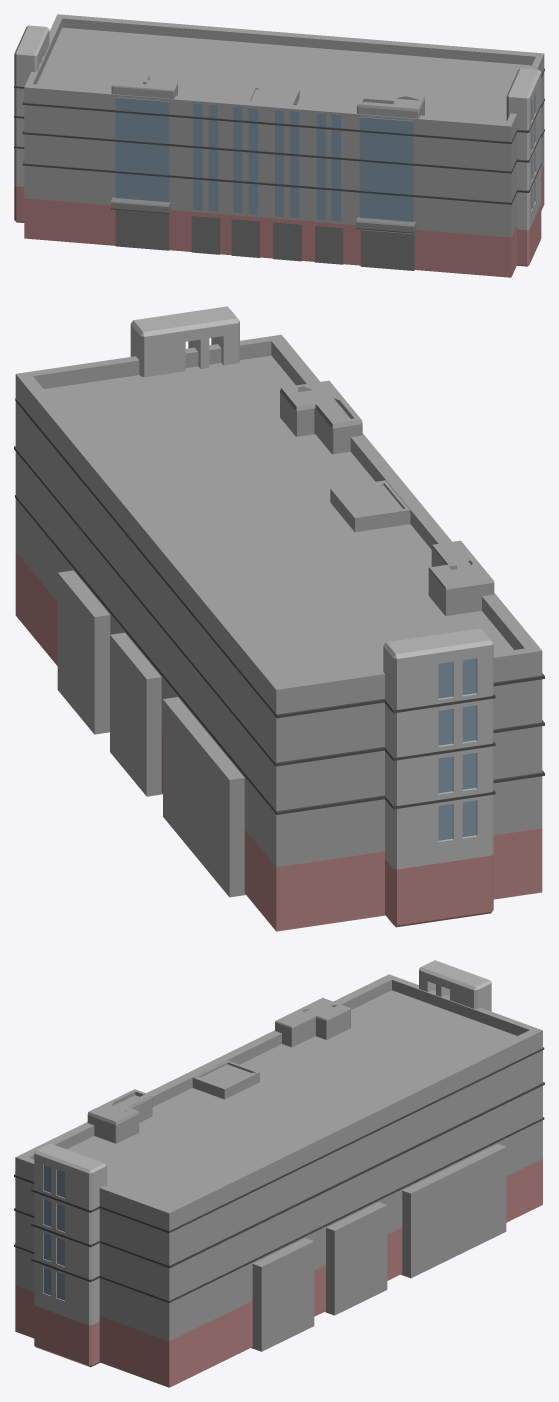
3 views of the same model, one above another, from view 1: azimuth 30°, elevation 25°; view 2: azimuth 150°, elevation 25°; view 3: azimuth 270°, elevation 25° (orthographic). The views are drawn at different scales.
Parts seen in each view (by area): view 1: building_01_003:MAIN_BUILDING1 polySurface1 group1, building_01_003:pCube50 building_01_003:window_front polySur, building_01_003:pCube77 building_01_003:window_front polySur, building_01_003:EEEE1 building_01_003:group polySurface1 gro, building_01_003:EEEE2 building_01_003:group polySurface1 gro, building_01_003:pCube48 building_01_003:window_front polySur, building_01_003:pCube49 building_01_003:window_front polySur, building_01_003:Rooftop building_01_003:pCube2 polySurface1 , building_01_003:pCube45 polySurface1 group1, building_01_003:pCube47 polySurface1 group1, building_01_003:pCube46 polySurface1 group1, building_01_003:Rooftop building_01_003:pCube3 polySurface1  (+16 smaller); view 2: building_01_003:MAIN_BUILDING1 polySurface1 group1, building_01_003:EEEE2 building_01_003:group polySurface1 gro, building_01_003:group1 building_01_003:group2 building_01_00 (×3), building_01_003:EEEE1 building_01_003:group polySurface1 gro, building_01_003:pPlane2 polySurface1 group1, building_01_003:Rooftop building_01_003:pCube2 polySurface1 , building_01_003:Rooftop building_01_003:pCube3 polySurface1 , building_01_003:Rooftop building_01_003:pCube21 polySurface1, building_01_003:pCube75 polySurface1 group1, building_01_003:pCube76 polySurface1 group1, building_01_003:pCube74 polySurface1 group1; view 3: building_01_003:MAIN_BUILDING1 polySurface1 group1, building_01_003:group1 building_01_003:group2 building_01_00 (×3), building_01_003:EEEE1 building_01_003:group polySurface1 gro, building_01_003:Rooftop building_01_003:pCube3 polySurface1 , building_01_003:EEEE2 building_01_003:group polySurface1 gro, building_01_003:Rooftop building_01_003:pCube2 polySurface1 , building_01_003:pPlane1 polySurface1 group1, building_01_003:Rooftop building_01_003:pCube21 polySurface1, building_01_003:pCube75 polySurface1 group1, building_01_003:pCube76 polySurface1 group1, building_01_003:pCube74 polySurface1 group1.
Part boxes in pixels (box(x1,y1,x2,y2)): building_01_003:MAIN_BUILDING1 polySurface1 group1: box(24, 14, 544, 277); building_01_003:pCube50 building_01_003:window_front polySur: box(115, 97, 169, 202); building_01_003:pCube77 building_01_003:window_front polySur: box(359, 117, 413, 221); building_01_003:EEEE1 building_01_003:group polySurface1 gro: box(506, 68, 541, 266); building_01_003:EEEE2 building_01_003:group polySurface1 gro: box(14, 25, 49, 222); building_01_003:pCube48 building_01_003:window_front polySur: box(360, 229, 414, 270); building_01_003:pCube49 building_01_003:window_front polySur: box(115, 209, 169, 250); building_01_003:Rooftop building_01_003:pCube2 polySurface1 : box(357, 93, 424, 118); building_01_003:pCube45 polySurface1 group1: box(22, 100, 517, 144); building_01_003:pCube47 polySurface1 group1: box(22, 160, 517, 204); building_01_003:pCube46 polySurface1 group1: box(22, 129, 517, 173); building_01_003:Rooftop building_01_003:pCube3 polySurface1 : box(111, 72, 177, 98); building_01_003:MAIN_BUILDING1 polySurface1 group1: box(15, 334, 542, 931); building_01_003:EEEE2 building_01_003:group polySurface1 gro: box(383, 628, 493, 927); building_01_003:group1 building_01_003:group2 building_01_00 (×3): box(57, 570, 245, 897); building_01_003:EEEE1 building_01_003:group polySurface1 gro: box(130, 306, 239, 377); building_01_003:pPlane2 polySurface1 group1: box(438, 658, 476, 840); building_01_003:Rooftop building_01_003:pCube2 polySurface1 : box(280, 380, 362, 454); building_01_003:Rooftop building_01_003:pCube3 polySurface1 : box(428, 540, 494, 615); building_01_003:Rooftop building_01_003:pCube21 polySurface1: box(330, 480, 410, 532); building_01_003:pCube75 polySurface1 group1: box(14, 446, 385, 766); building_01_003:pCube76 polySurface1 group1: box(15, 495, 385, 814); building_01_003:pCube74 polySurface1 group1: box(15, 398, 385, 718); building_01_003:MAIN_BUILDING1 polySurface1 group1: box(15, 974, 542, 1387); building_01_003:group1 building_01_003:group2 building_01_00 (×3): box(251, 1143, 506, 1351); building_01_003:EEEE1 building_01_003:group polySurface1 gro: box(34, 1143, 106, 1367); building_01_003:Rooftop building_01_003:pCube3 polySurface1 : box(275, 998, 350, 1047); building_01_003:EEEE2 building_01_003:group polySurface1 gro: box(419, 960, 491, 1011); building_01_003:Rooftop building_01_003:pCube2 polySurface1 : box(87, 1089, 152, 1143); building_01_003:pPlane1 polySurface1 group1: box(43, 1165, 64, 1300); building_01_003:Rooftop building_01_003:pCube21 polySurface1: box(192, 1060, 259, 1099); building_01_003:pCube75 polySurface1 group1: box(100, 1082, 544, 1268); building_01_003:pCube76 polySurface1 group1: box(99, 1117, 544, 1302); building_01_003:pCube74 polySurface1 group1: box(99, 1047, 544, 1232).
Bounding box in the file's own units: 6.09 × 2.33 × 5.68.
